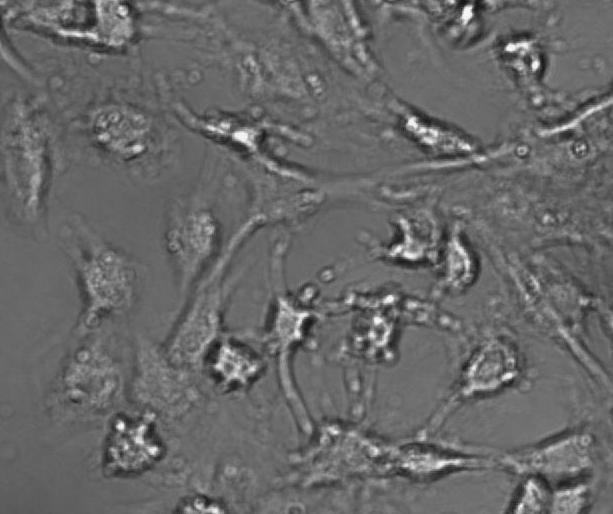Dead: (181, 101, 301, 176), (249, 276, 325, 362), (395, 101, 485, 163), (344, 287, 410, 371), (97, 410, 169, 479), (378, 210, 447, 271), (496, 30, 551, 103), (434, 220, 482, 300), (208, 333, 267, 395)
